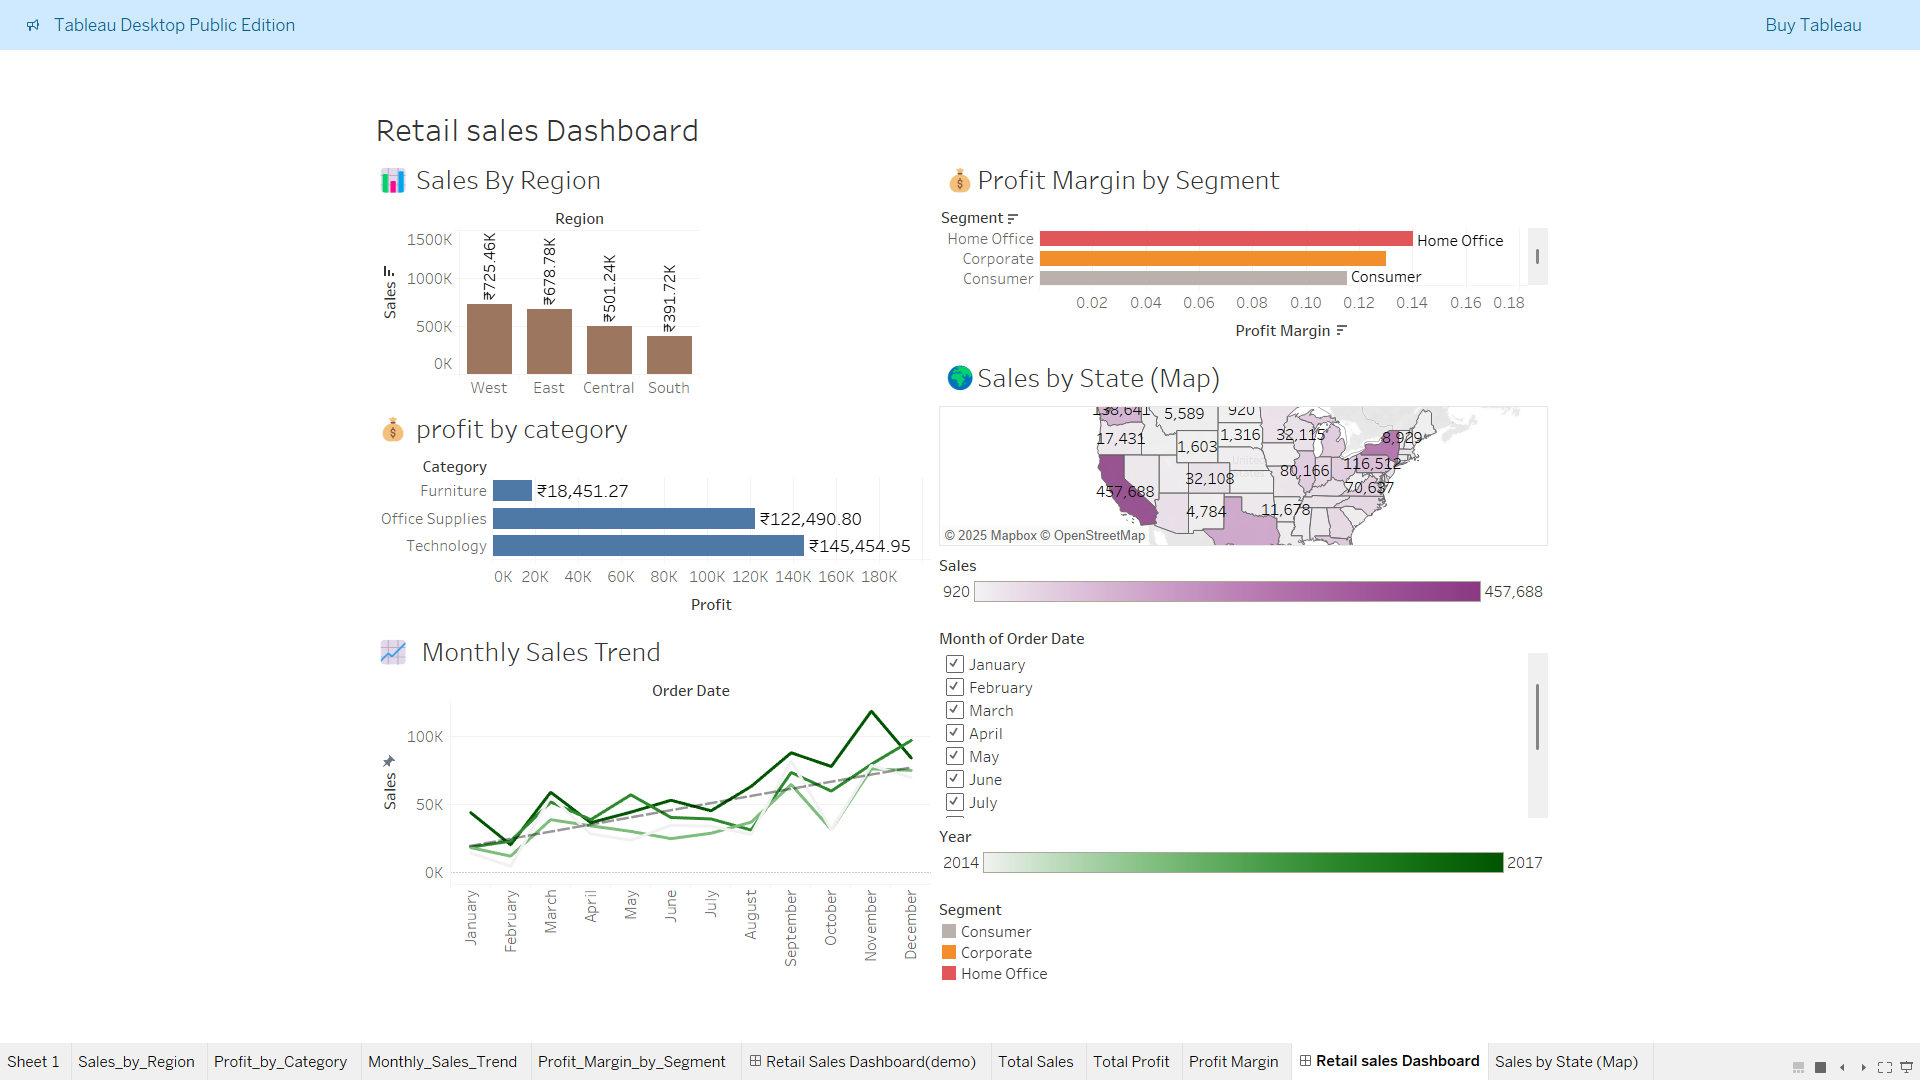

What the dashboard file says about the page in this screenshot:
{"tool":"tableau","page":{"name":"Retail sales Dashboard","canvas":[1200,900],"ordinal":1},"visuals":[{"type":"title","box":[8,8,1184,50]},{"type":"worksheet","title":"Sales_by_Region","mark":"Bar","rows":["Sales"],"cols":["Region"],"box":[8,58,566.9,249]},{"type":"worksheet","title":"Profit_Margin_by_Segment","mark":"Automatic","rows":["Segment"],"cols":["Calculation_197876919061651456"],"box":[574.9,58,617,198.3]},{"type":"worksheet","title":"Sales by State (Map)","mark":"Automatic","box":[574.9,256.3,617,198.3]},{"type":"worksheet","title":"Profit_by_Category","mark":"Automatic","rows":["Category"],"cols":["Profit"],"box":[8,307,566.9,223]},{"type":"legend","title":"Sales by State (Map)","param":"[federated.1ntafz41g6pkdw1bi9c9d1pmb7du].[sum:Sales:qk]","box":[574.9,454.7,617,73]},{"type":"filter","title":"Monthly_Sales_Trend","param":"[federated.1cxxyw709kdyjy1fthe2s1a11pyq].[mn:Order Date:ok]","box":[574.9,527.7,617,198.3]},{"type":"worksheet","title":"Monthly_Sales_Trend","mark":"Automatic","rows":["Sales"],"cols":["Order Date"],"box":[8,530,566.9,362]},{"type":"legend","title":"Monthly_Sales_Trend","param":"[federated.1cxxyw709kdyjy1fthe2s1a11pyq].[none:Year:qk]","box":[574.9,726,617,73]},{"type":"legend","title":"Profit_Margin_by_Segment","param":"[federated.1cxxyw709kdyjy1fthe2s1a11pyq].[none:Segment:nk]","box":[574.9,799,617,93]}]}

Visuals, with their boxes on the page's 1200x900 design canvas (x1, y1, x2, y2). These are canvas units, not pixel positions in the 1920x1080 screenshot, which may show the page scaled, cropped or inside an application window:
title: [8,8,1192,58]
"Sales_by_Region" worksheet (Bar marks): [8,58,575,307]
"Profit_Margin_by_Segment" worksheet: [575,58,1192,256]
"Sales by State (Map)" worksheet: [575,256,1192,455]
"Profit_by_Category" worksheet: [8,307,575,530]
"Sales by State (Map)" legend: [575,455,1192,528]
"Monthly_Sales_Trend" filter: [575,528,1192,726]
"Monthly_Sales_Trend" worksheet: [8,530,575,892]
"Monthly_Sales_Trend" legend: [575,726,1192,799]
"Profit_Margin_by_Segment" legend: [575,799,1192,892]
